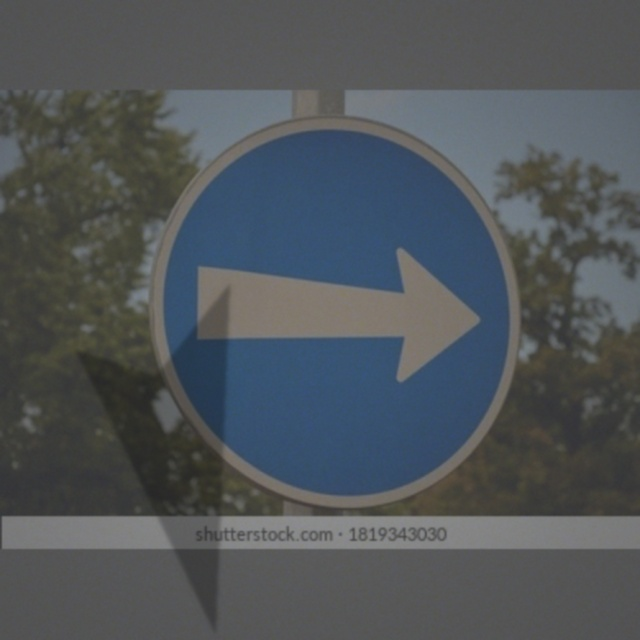Compulsory_Turn_Right: (158, 115, 510, 498)
